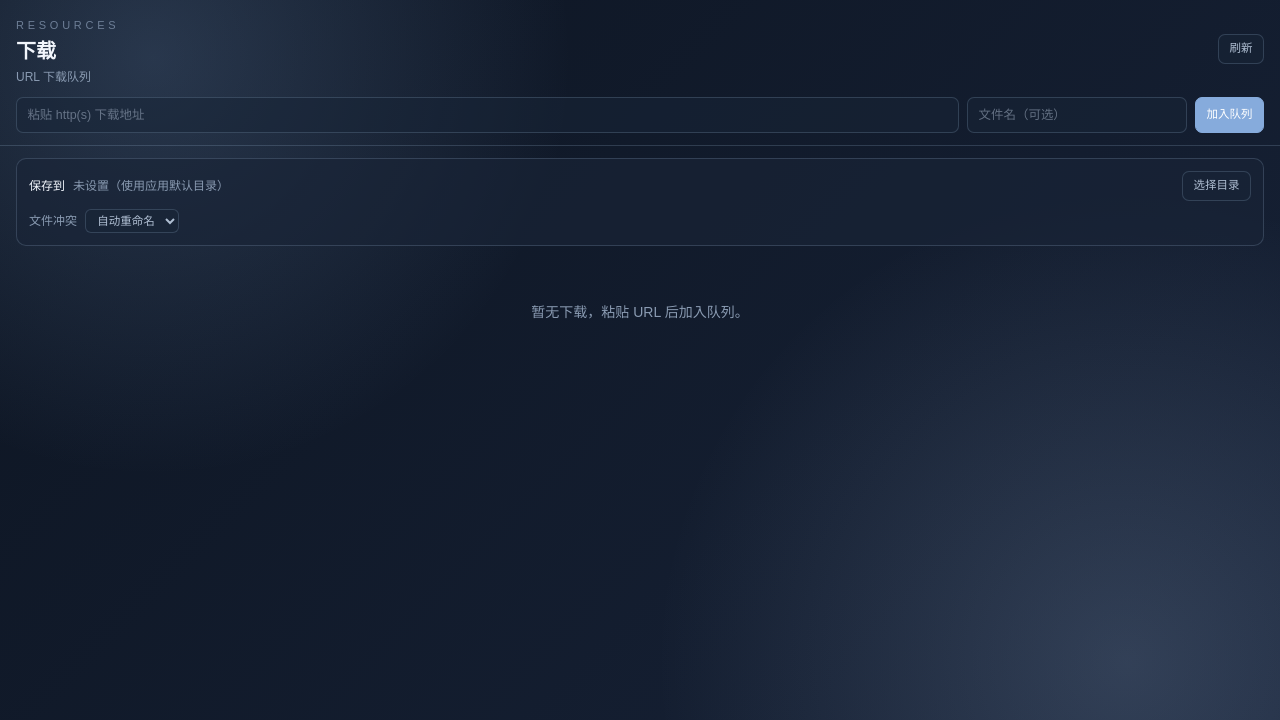
Test: DownloadsPanel › enqueues a valid URL and renders it in the queue
Expected: the text "暂无下载，粘贴 URL 后加入队列。" is shown, [531,304,749,320]
Type "https://example.com/file.zip" into the field named "下载 URL" at (488, 115), box [16,98,959,133]
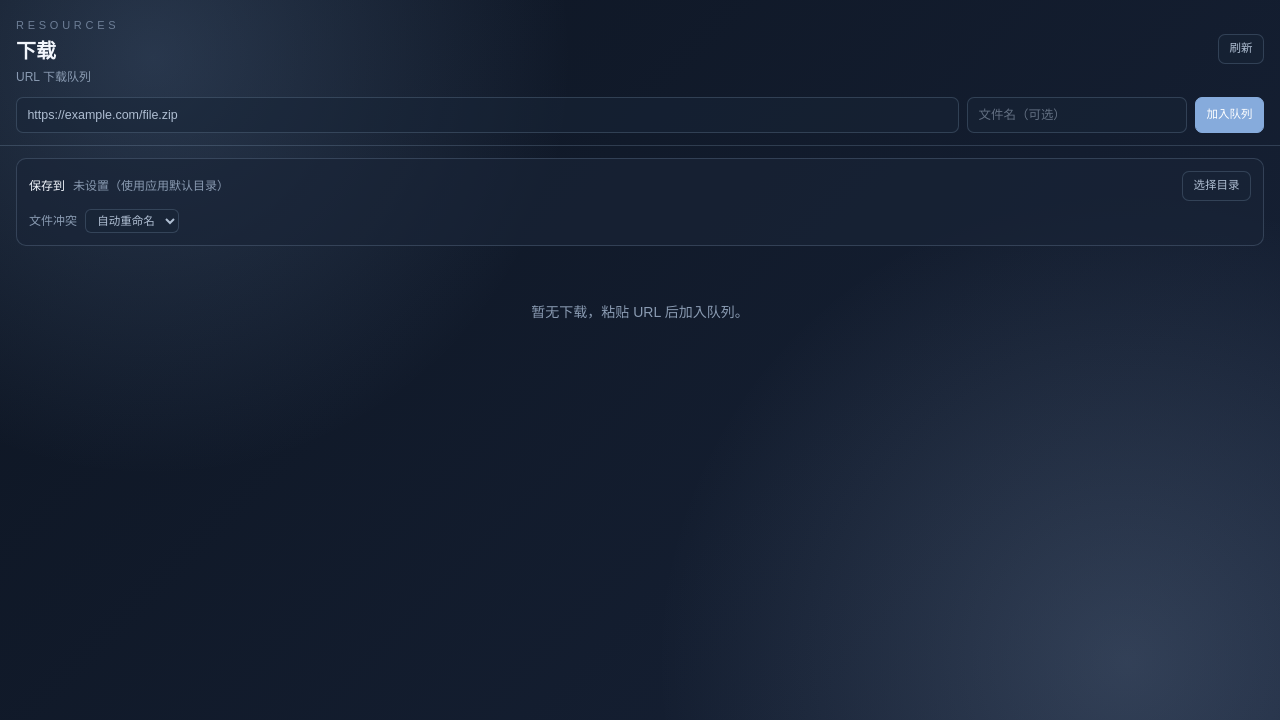
Click the button "加入队列" at (1230, 115), box [1195,98,1264,133]
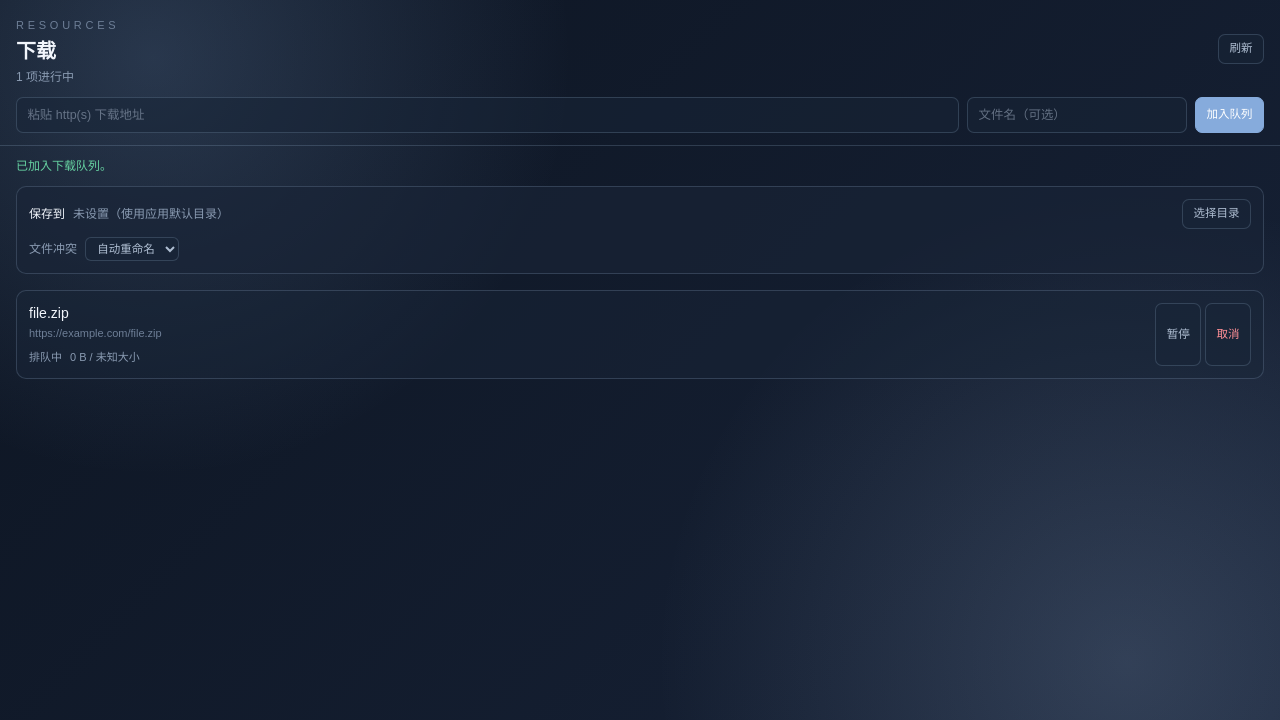
Expected: the text "file.zip" is shown, [29,305,69,321]
